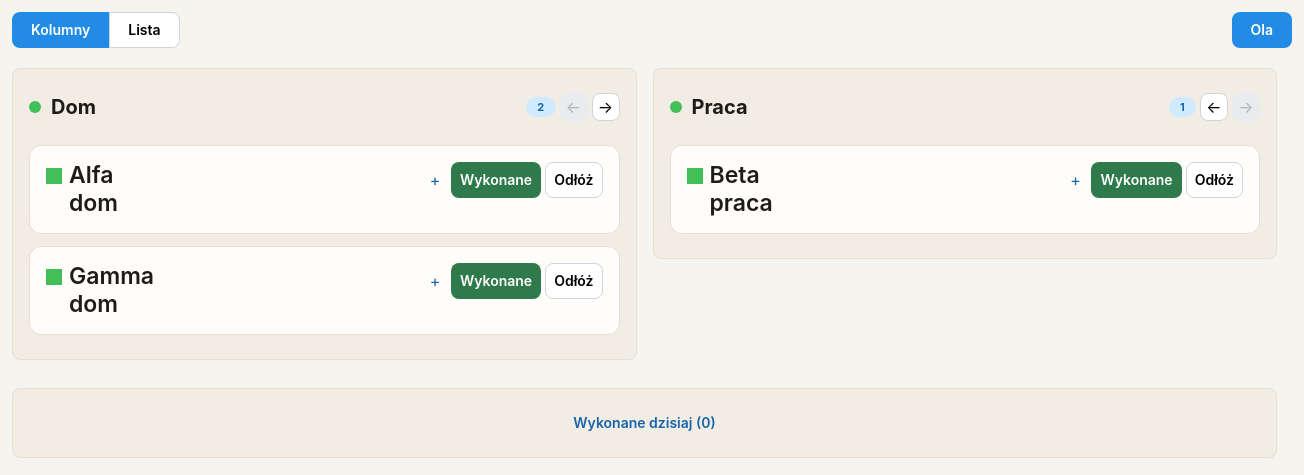
Test case: TodayViewShell layout › switches to the flat list and remembers that choice
This screenshot has width=1304, height=475.
Click the button "Lista": (144, 30) 109,12 -> 180,48
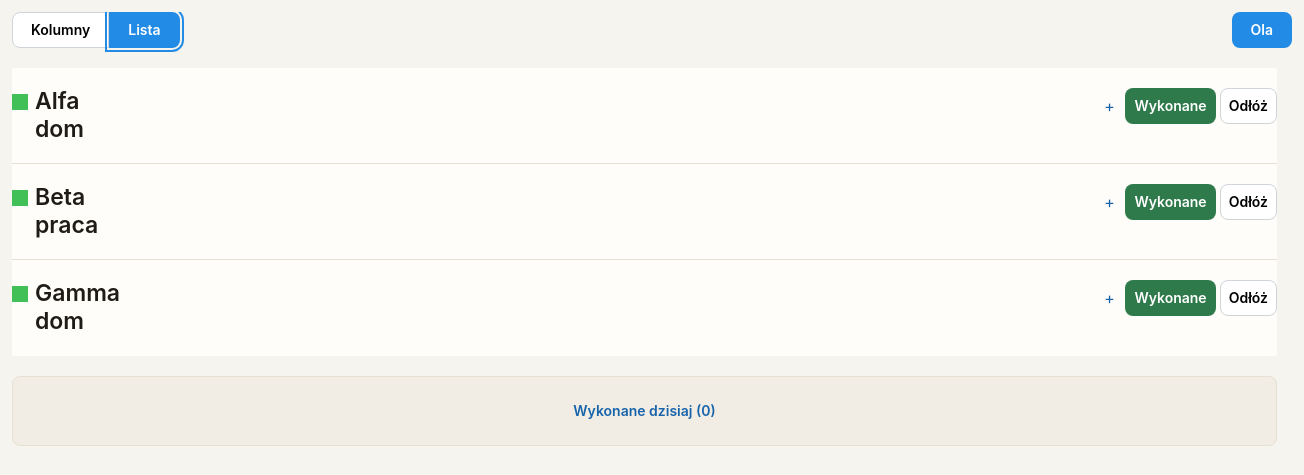
Result: the element named "Aktywne zadania" is shown at 12,68 -> 1277,356
